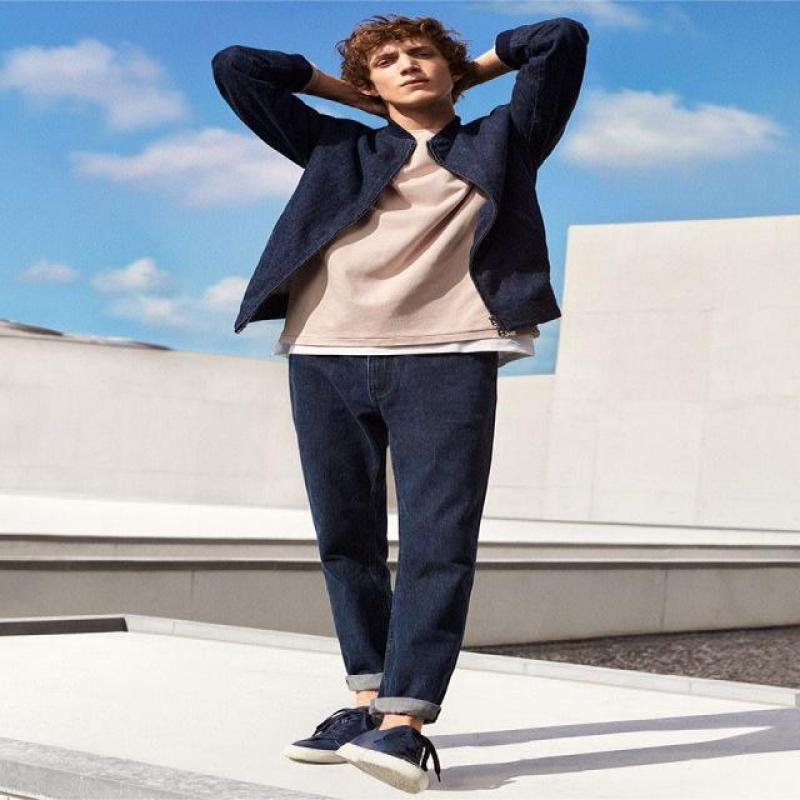jacket: (207, 17, 593, 335)
short sleeve shirt: (280, 126, 542, 352)
trousers: (282, 340, 500, 732)
